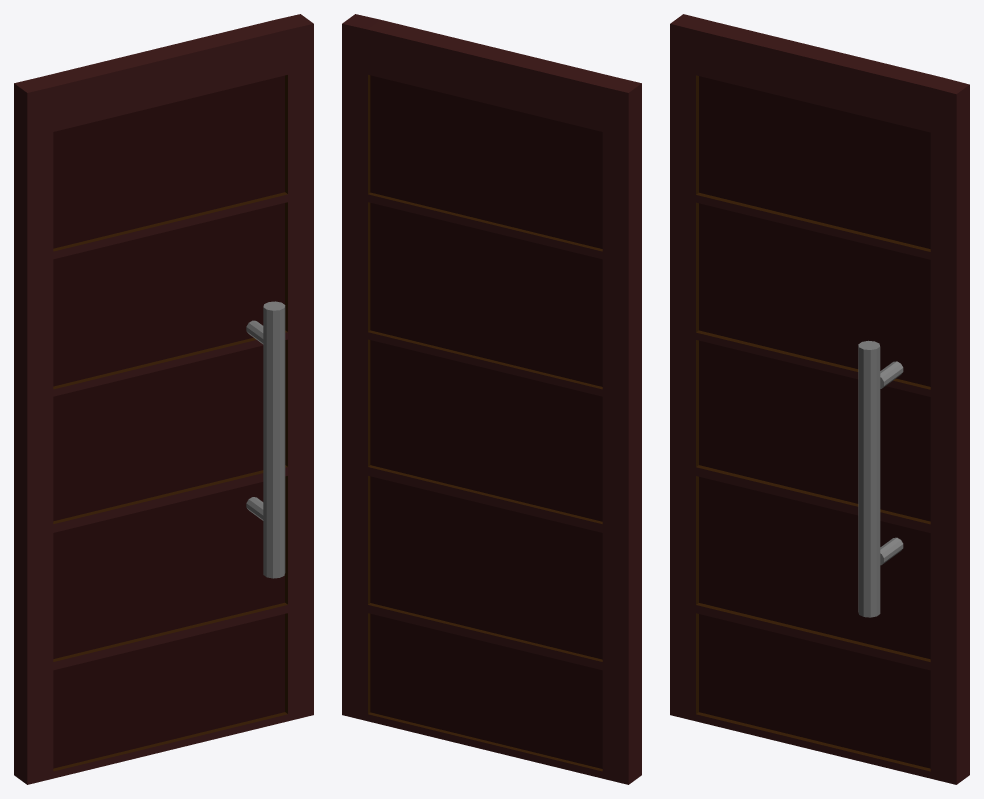
The model's file is Puerta.fbx.
The picture shows the model from 3 angles, left to right: view 1: azimuth 30°, elevation 25°; view 2: azimuth 150°, elevation 25°; view 3: azimuth 330°, elevation 25°; orthographic projection.
Parts seen in each view (by area): view 1: puerta:pCylinder5; view 2: puerta:pCylinder5; view 3: puerta:pCylinder5.
Boxes of the visible parts, x1,y1,x2,y2 form: puerta:pCylinder5: [14, 14, 313, 784]; puerta:pCylinder5: [342, 14, 641, 784]; puerta:pCylinder5: [670, 14, 969, 784].
Bounding box in the file's own units: 35.19 × 81.19 × 9.08.
